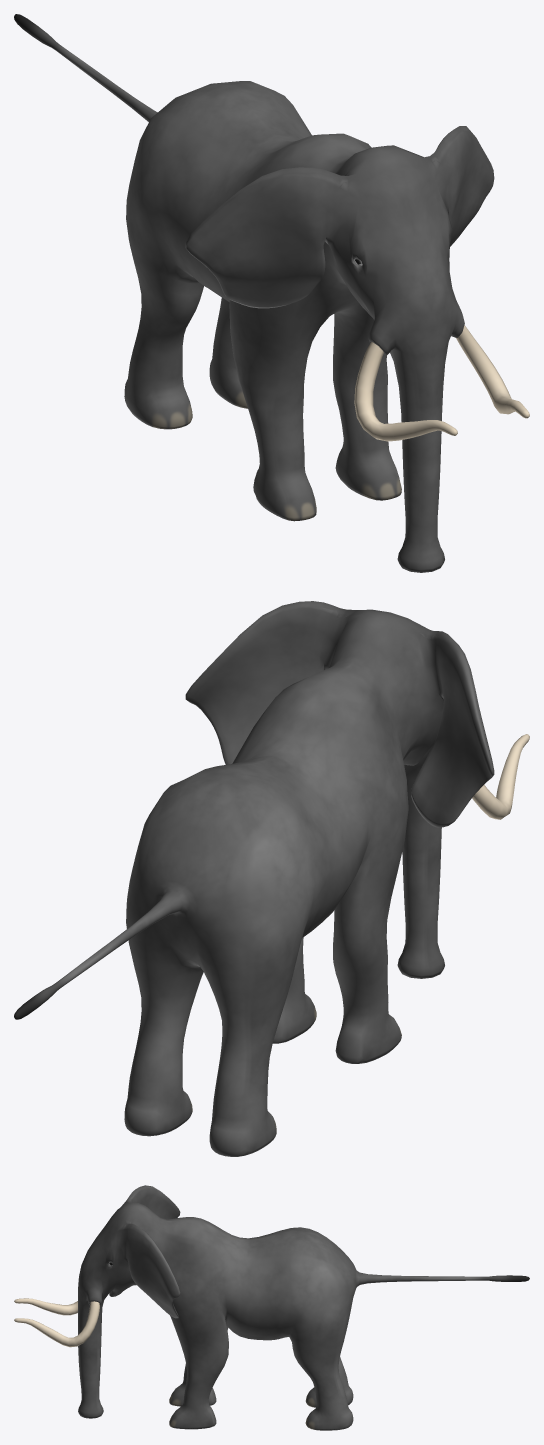
Rendered from Gajah Sumatera.fbx.
3 renders of one model, top to bottom at view 1: azimuth 30°, elevation 25°; view 2: azimuth 150°, elevation 25°; view 3: azimuth 270°, elevation 25°, orthographic. The views are drawn at different scales.
Parts seen in each view (by area): view 1: Body, Body.002; view 2: Body, Body.002; view 3: Body, Body.002.
Boxes of the visible parts, <box> form: Body: <box>14,14,494,572</box>; Body.002: <box>354,325,529,441</box>; Body: <box>14,601,494,1156</box>; Body.002: <box>472,734,529,819</box>; Body: <box>78,1185,529,1430</box>; Body.002: <box>14,1298,99,1347</box>.
Size of the model in its own units: 182 by 491 by 218.
